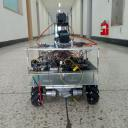cart: (25, 47, 101, 106)
